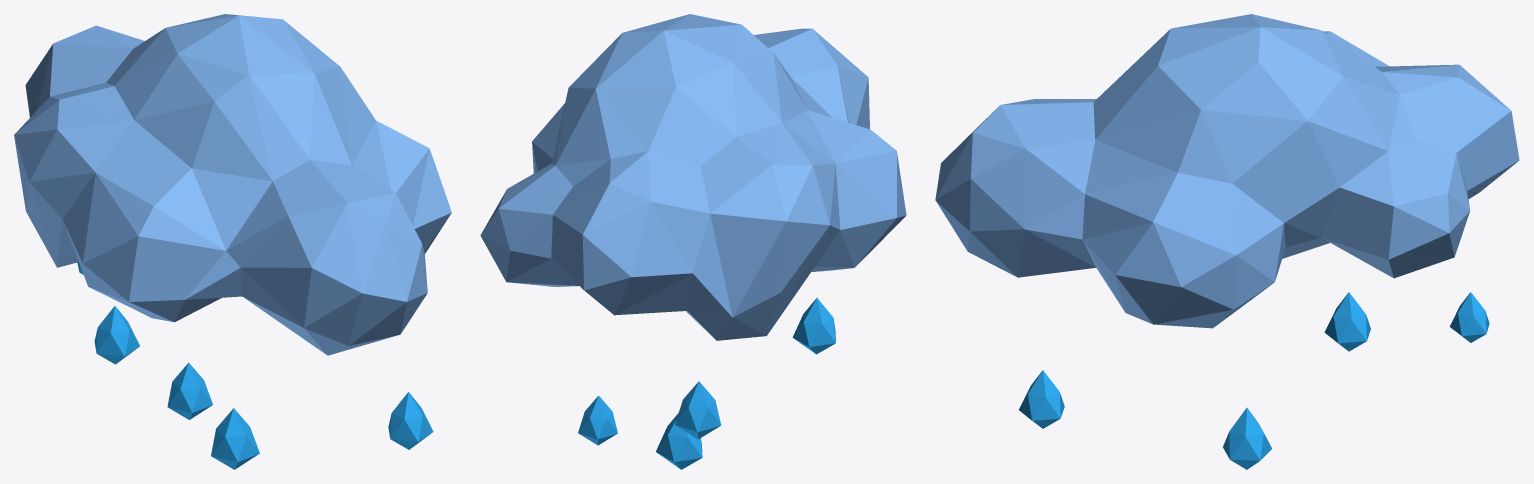
3 views of the same model, side by side, from view 1: azimuth 30°, elevation 25°; view 2: azimuth 150°, elevation 25°; view 3: azimuth 270°, elevation 25° (orthographic).
Visible parts, largest first — view 1: Cloud.015, Cloud.016, Cloud.020, Cloud.019, Cloud.017; view 2: Cloud.015, Cloud.020, Cloud.019, Cloud.016, Cloud.018; view 3: Cloud.015, Cloud.016, Cloud.020, Cloud.017, Cloud.018.
Part boxes in pixels (x1,y1,x2,y2): Cloud.015: (14,14,451,355); Cloud.016: (211,408,259,469); Cloud.020: (94,306,139,364); Cloud.019: (167,362,212,419); Cloud.017: (388,392,433,449); Cloud.015: (480,14,906,340); Cloud.020: (675,381,721,439); Cloud.019: (792,298,835,354); Cloud.016: (656,413,702,469); Cloud.018: (578,395,617,445); Cloud.015: (935,14,1519,328); Cloud.016: (1223,407,1272,469); Cloud.020: (1324,292,1370,351); Cloud.017: (1019,370,1064,428); Cloud.018: (1449,292,1489,342).
Bounding box in the file's own units: 3.44 × 4.13 × 4.88.
